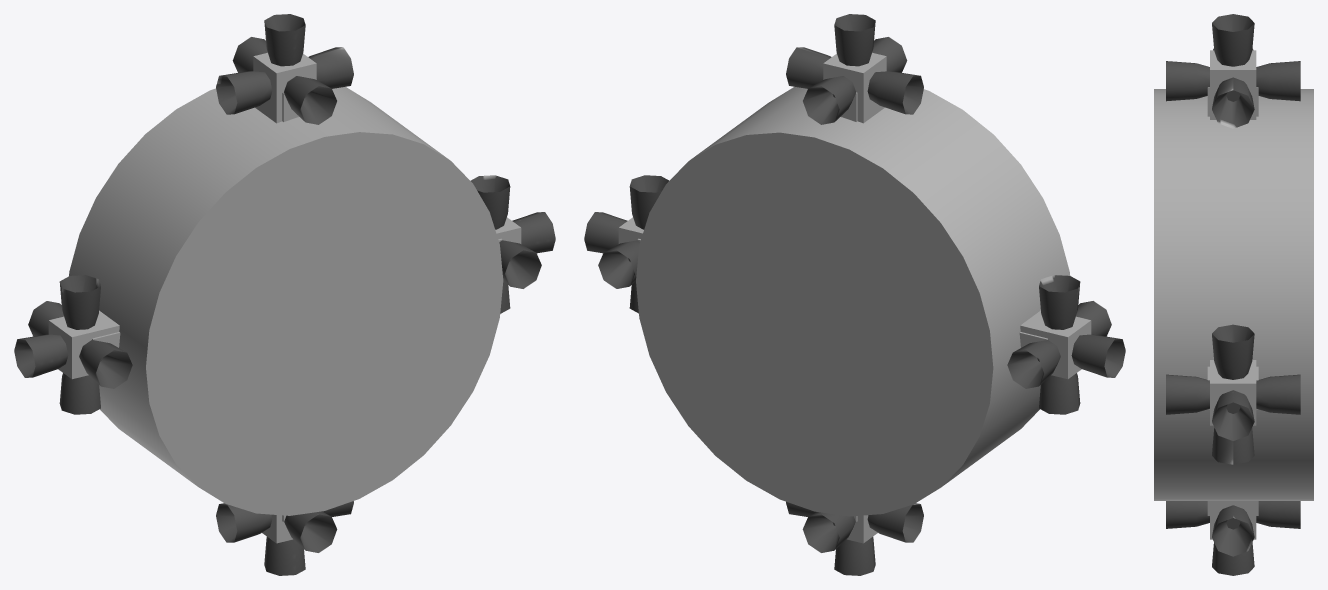
Rendered from rcs_block.glb.
The picture shows the model from 3 angles, left to right: view 1: azimuth 30°, elevation 25°; view 2: azimuth 150°, elevation 25°; view 3: azimuth 270°, elevation 25°; orthographic projection.
Visible parts, largest first — view 1: Cylinder, Cube.002, Cube.001, Cube.000, Cube.003; view 2: Cylinder, Cube.002, Cube.001, Cube.000, Cube.003; view 3: Cylinder, Cube.003, Cube.001, Cube.000.
Part boxes in pixels (x1,y1,x2,y2): Cylinder: (69, 87, 503, 515); Cube.002: (14, 275, 132, 414); Cube.001: (216, 14, 353, 124); Cube.000: (216, 501, 353, 575); Cube.003: (470, 175, 555, 313); Cylinder: (636, 87, 1070, 516); Cube.002: (1007, 275, 1125, 414); Cube.001: (786, 14, 923, 124); Cube.000: (786, 501, 923, 575); Cube.003: (584, 175, 668, 313); Cylinder: (1154, 89, 1313, 500); Cube.003: (1166, 324, 1300, 464); Cube.001: (1166, 14, 1300, 128); Cube.000: (1166, 501, 1300, 575).
Size of what is drawn, in the model's own units: 2.91 by 2.91 by 0.7752.
1 material, 1 textured.
